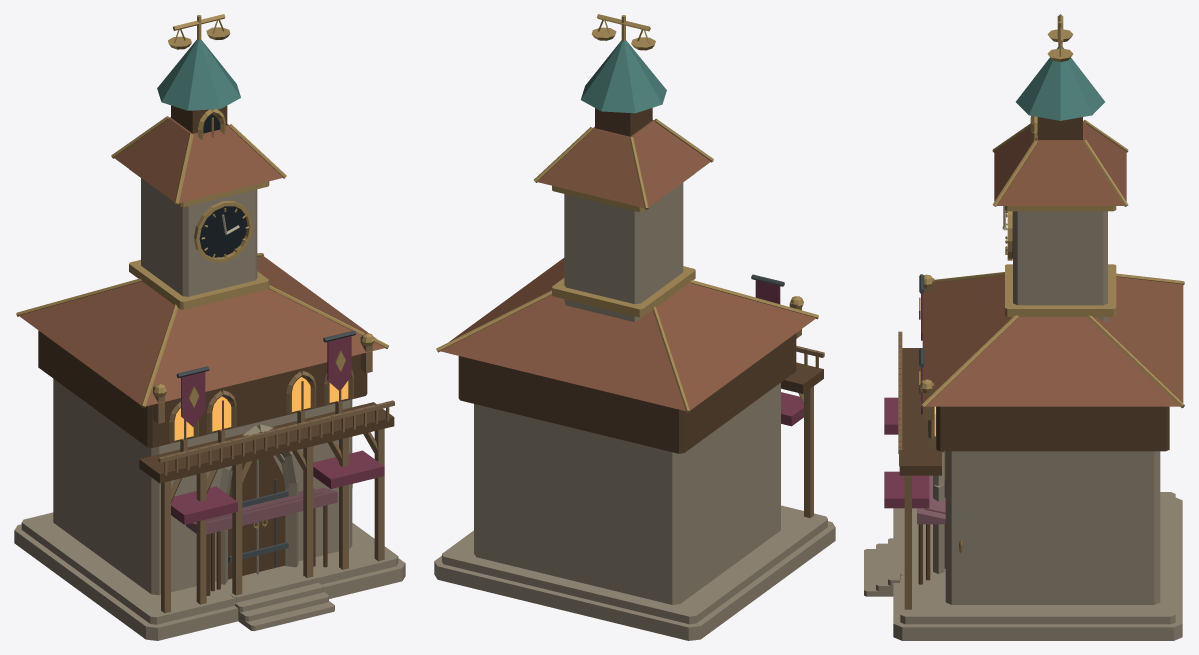
Rendered from market.glb.
3 views of the same model, side by side, from view 1: azimuth 30°, elevation 25°; view 2: azimuth 150°, elevation 25°; view 3: azimuth 270°, elevation 25° (orthographic). The views are drawn at different scales.
Parts seen in each view (by area): view 1: VIL_MARKET_CHAPEL, VIL_MARKET_WORKSHOP, VIL_MARKET_HOUSE_A; view 2: VIL_MARKET_CHAPEL; view 3: VIL_MARKET_CHAPEL, VIL_MARKET_WORKSHOP, VIL_MARKET_HOUSE_A.
Part boxes in pixels (x1,y1,x2,y2): VIL_MARKET_CHAPEL: (14,14,405,640); VIL_MARKET_WORKSHOP: (186,484,352,595); VIL_MARKET_HOUSE_A: (206,488,323,591); VIL_MARKET_CHAPEL: (434,14,835,640); VIL_MARKET_CHAPEL: (864,14,1184,640); VIL_MARKET_WORKSHOP: (917,508,962,584); VIL_MARKET_HOUSE_A: (924,475,945,580).
Size of the model in its own units: 6.2 by 12.29 by 6.43.
